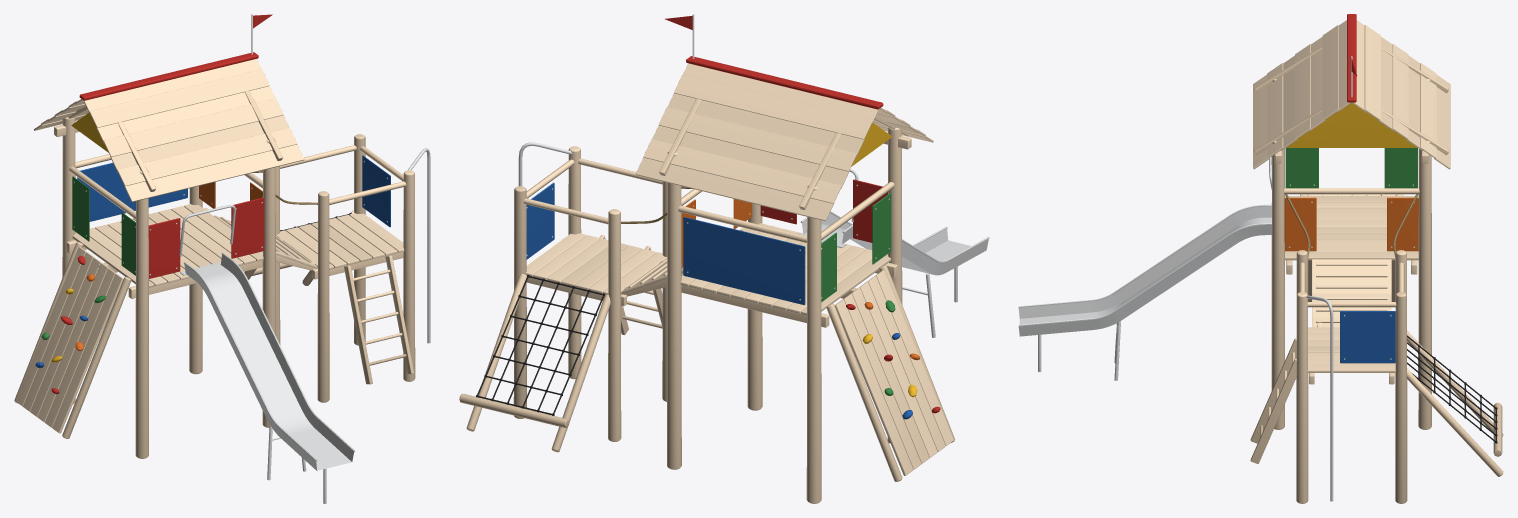
Rendered from playground_tower.glb.
3 views of the same model, side by side, from view 1: azimuth 30°, elevation 25°; view 2: azimuth 150°, elevation 25°; view 3: azimuth 270°, elevation 25° (orthographic). The views are drawn at different scales.
Parts seen in each view (by area): view 1: playground_tower_wood_plank, playground_tower_wood_robinia, playground_tower_steel_stainless, playground_tower_hdpe_red, playground_tower_hdpe_blue, playground_tower_hdpe_green, playground_tower_hdpe_orange, playground_tower_hdpe_yellow, playground_tower_steel_galv; view 2: playground_tower_wood_plank, playground_tower_wood_robinia, playground_tower_hdpe_blue, playground_tower_steel_stainless, playground_tower_hdpe_red, playground_tower_rope_black, playground_tower_hdpe_green, playground_tower_hdpe_yellow, playground_tower_hdpe_orange, playground_tower_steel_galv; view 3: playground_tower_wood_plank, playground_tower_wood_robinia, playground_tower_steel_stainless, playground_tower_hdpe_orange, playground_tower_hdpe_yellow, playground_tower_hdpe_blue, playground_tower_hdpe_green, playground_tower_rope_black, playground_tower_hdpe_red.
Boxes of the visible parts, x1,y1,x2,y2 form: playground_tower_wood_plank: (15,59,404,433); playground_tower_wood_robinia: (14,91,415,458); playground_tower_steel_stainless: (73,148,430,470); playground_tower_hdpe_red: (51,14,272,394); playground_tower_hdpe_blue: (35,155,390,367); playground_tower_hdpe_green: (41,176,135,339); playground_tower_hdpe_orange: (75,182,262,350); playground_tower_hdpe_yellow: (51,113,108,362); playground_tower_steel_galv: (251,14,326,503); playground_tower_wood_plank: (526,63,953,475); playground_tower_wood_robinia: (459,98,954,503); playground_tower_hdpe_blue: (526,182,912,419); playground_tower_steel_stainless: (518,142,989,300); playground_tower_hdpe_red: (665,15,940,413); playground_tower_rope_black: (477,276,604,414); playground_tower_hdpe_green: (821,192,895,395); playground_tower_hdpe_yellow: (851,123,917,397); playground_tower_hdpe_orange: (681,199,919,360); playground_tower_steel_galv: (692,14,957,337); playground_tower_wood_plank: (1253,20,1450,372); playground_tower_wood_robinia: (1250,46,1503,503); playground_tower_steel_stainless: (1018,156,1414,501); playground_tower_hdpe_orange: (1284,197,1418,251); playground_tower_hdpe_yellow: (1286,103,1417,147); playground_tower_hdpe_blue: (1340,311,1395,363); playground_tower_hdpe_green: (1285,148,1417,188); playground_tower_rope_black: (1407,335,1496,441); playground_tower_hdpe_red: (1347,14,1381,195).
Size of the model in its own units: 5.56 by 5.26 by 6.08.
Materials: 12 (2 with a texture image).
